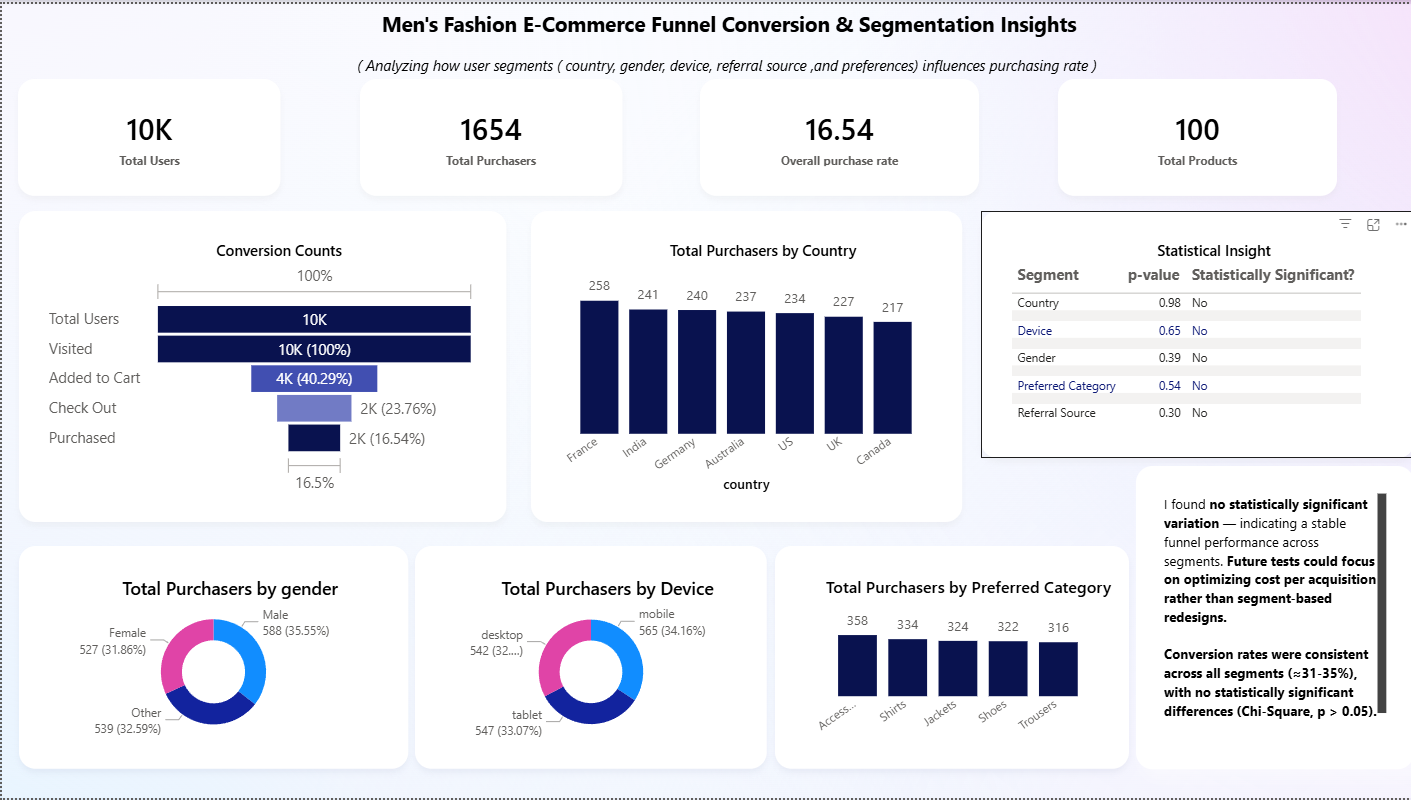

This screenshot's page, from the dashboard's own definition file:
{"tool":"powerbi","page":{"name":"Page 1","canvas":[1280,720],"ordinal":0},"visuals":[{"type":"card","fields":{"Values":["user_activity_log.Total Users"]},"box":[14.5,68,238.5,106.1],"z":0},{"type":"card","fields":{"Values":["user_activity_log.Total Purchasers"]},"box":[324.3,68,237.6,106.1],"z":1000},{"type":"card","fields":{"Values":["Sum(percentages.purchase_pct)"]},"box":[633.2,68,253,106.1],"z":2000},{"type":"funnel","title":"Conversion Counts","fields":{"Y":["Sum(percentages.total_users)","Sum(percentages.visited)","Sum(percentages.added_to_cart)","Sum(percentages.started_checkout)","Sum(percentages.purchased)"]},"box":[15.4,187.7,441.6,282],"z":3000},{"type":"clusteredColumnChart","title":"Total Purchasers by Country","fields":{"Category":["user_profile.country"],"Y":["user_activity_log.Total Purchasers"]},"box":[479.7,187.7,390.8,282],"z":4000},{"type":"tableEx","title":"Statistical Insight","fields":{"Values":["Significance.Segment","Sum(Significance.p-value)","Significance.Statistically Significant?"]},"box":[887.8,187.7,392.6,224],"z":5000},{"type":"donutChart","title":"Total Purchasers by Device","fields":{"Category":["user_activity_log.device"],"Y":["user_activity_log.Total Purchasers"]},"box":[374.8,491.5,319.2,202.2],"z":6000},{"type":"clusteredColumnChart","title":"Total Purchasers by Preferred Category","fields":{"Category":["user_profile.preferred_category"],"Y":["user_activity_log.Total Purchasers"]},"box":[700.7,491.5,321,202.2],"z":7000},{"type":"donutChart","fields":{"Y":["user_activity_log.Total Purchasers"],"Category":["user_profile.gender"]},"box":[15.4,491.5,352.7,202.2],"z":8000},{"type":"textbox","box":[1027.9,418.9,252.1,274.8],"z":9000},{"type":"card","fields":{"Values":["Significance.Total Products"]},"box":[957.6,68,253,106.1],"z":10000},{"type":"textbox","box":[134.2,0,1050.1,75.3],"z":11000}]}

Visuals, with their boxes in screenshot pixels (x1, y1, x2, y2), scaled from the page's 1280x720 canvas onto the 1411x800 screenshot:
card - user_activity_log.Total Users: <bbox>16, 76, 279, 193</bbox>
card - user_activity_log.Total Purchasers: <bbox>357, 76, 619, 193</bbox>
card - Sum(percentages.purchase_pct): <bbox>698, 76, 977, 193</bbox>
"Conversion Counts" funnel: <bbox>17, 209, 504, 522</bbox>
"Total Purchasers by Country" clusteredColumnChart: <bbox>529, 209, 960, 522</bbox>
"Statistical Insight" tableEx: <bbox>979, 209, 1410, 457</bbox>
"Total Purchasers by Device" donutChart: <bbox>413, 546, 765, 771</bbox>
"Total Purchasers by Preferred Category" clusteredColumnChart: <bbox>772, 546, 1126, 771</bbox>
donutChart - user_activity_log.Total Purchasers x user_profile.gender: <bbox>17, 546, 406, 771</bbox>
textbox: <bbox>1133, 465, 1410, 771</bbox>
card - Significance.Total Products: <bbox>1056, 76, 1334, 193</bbox>
textbox: <bbox>148, 0, 1306, 84</bbox>
